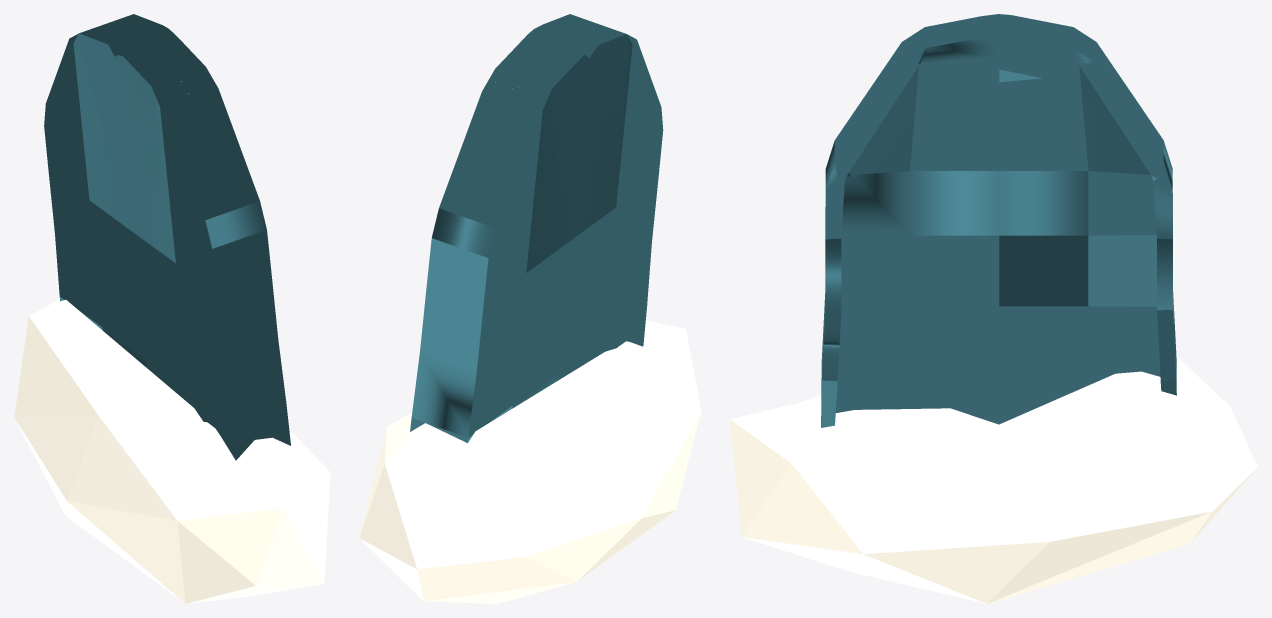
File: TombstoneAsset.fbx
3 views of the same model, side by side, from view 1: azimuth 30°, elevation 25°; view 2: azimuth 150°, elevation 25°; view 3: azimuth 270°, elevation 25° (orthographic). The views are drawn at different scales.
Parts seen in each view (by area): view 1: Tombstone, SnowBase; view 2: Tombstone, SnowBase; view 3: Tombstone, SnowBase.
Part boxes in pixels (<box>): Tombstone: <box>44,14,290,460</box>; SnowBase: <box>14,299,330,603</box>; Tombstone: <box>410,14,663,443</box>; SnowBase: <box>359,321,701,603</box>; Tombstone: <box>821,14,1176,427</box>; SnowBase: <box>730,357,1257,603</box>.
Size of the model in its own units: 145 by 354 by 317.
